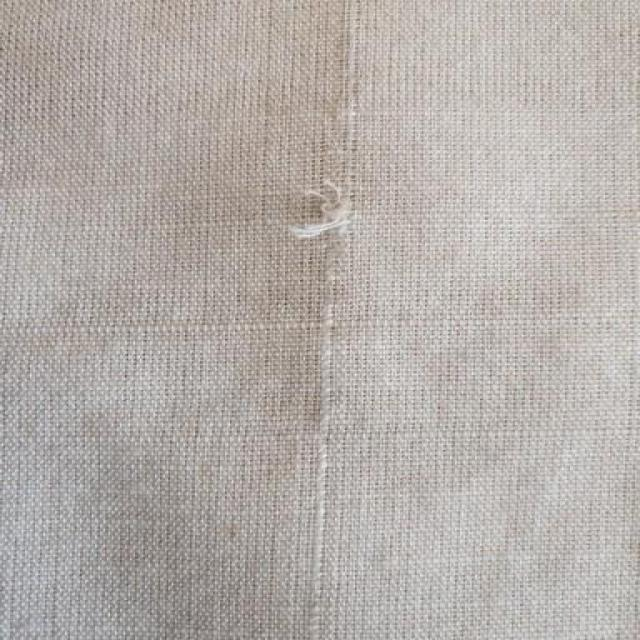defect: (280, 172, 368, 243)
